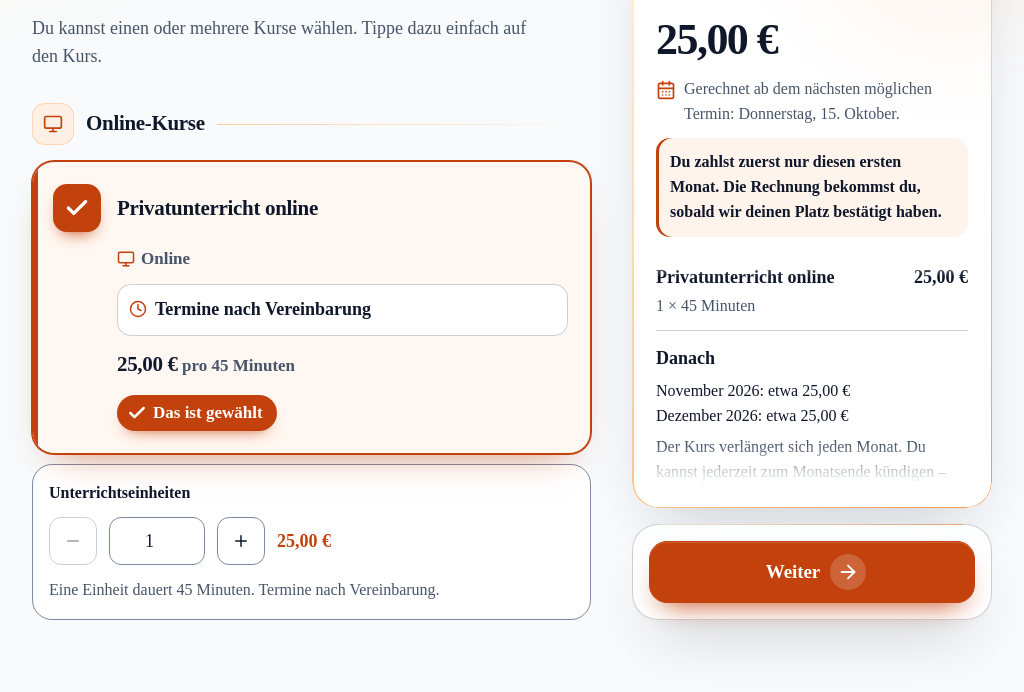
Test: preselects online private lessons and updates the registration receipt without inventing scheduled sessions
The width and height of the screenshot is (1024, 692).
(page scrolled)
Replace the text in the number field labelled "Unterrichtseinheiten" with "3" at (157, 541), box [109,517,205,565]
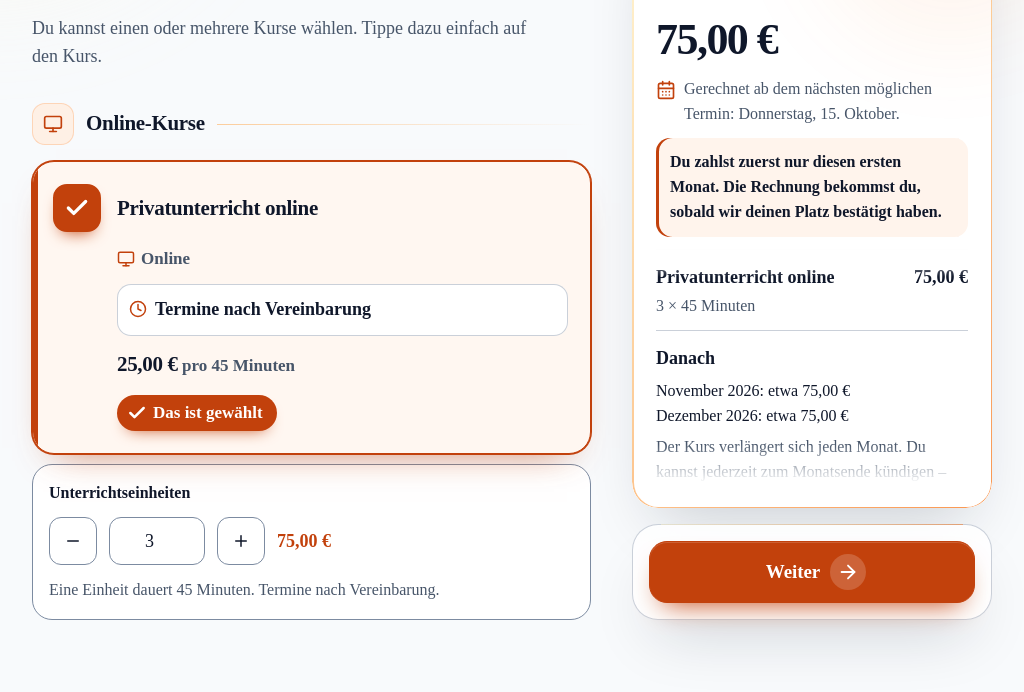
Now the text "3 × 45 Minuten" is shown, box [656,297,755,314]
